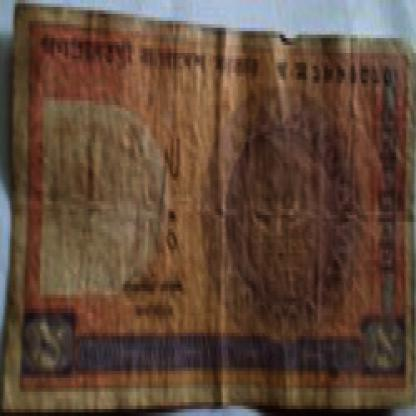One Taka: (378, 94, 401, 280), (25, 312, 73, 374), (366, 322, 401, 378)
